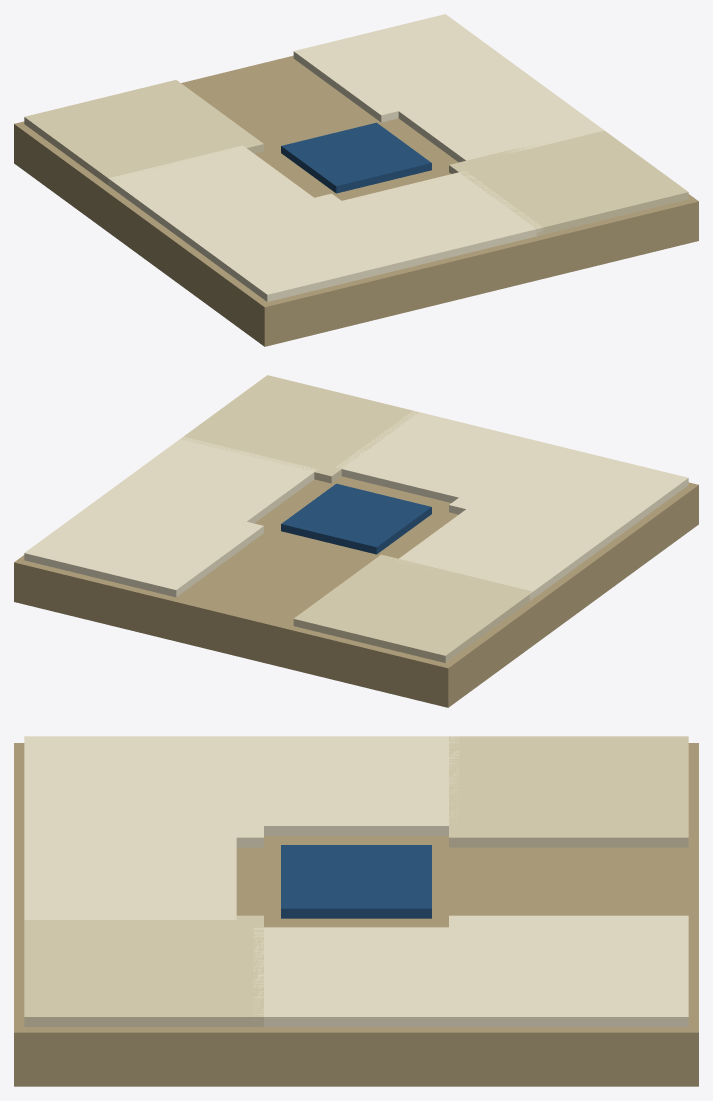
File: path_t.glb
3 renders of one model, top to bottom at view 1: azimuth 30°, elevation 25°; view 2: azimuth 150°, elevation 25°; view 3: azimuth 270°, elevation 25°, orthographic. The views are drawn at different scales.
Visible parts, largest first — view 1: Shared_path_t; view 2: Shared_path_t; view 3: Shared_path_t.
Part boxes in pixels (x1,y1,x2,y2): Shared_path_t: (14,14,698,346); Shared_path_t: (14,375,698,707); Shared_path_t: (14,736,698,1086).
Bounding box in the file's own units: 2 × 0.21 × 2.
